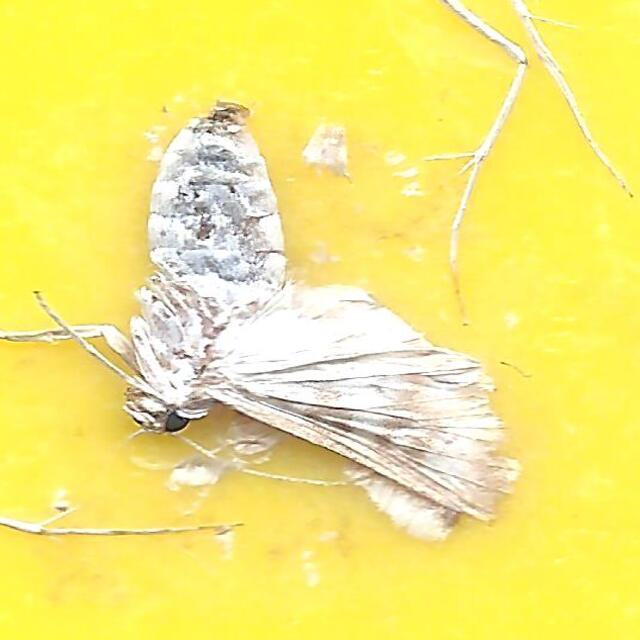Lepidoptera: (119, 101, 521, 539)
